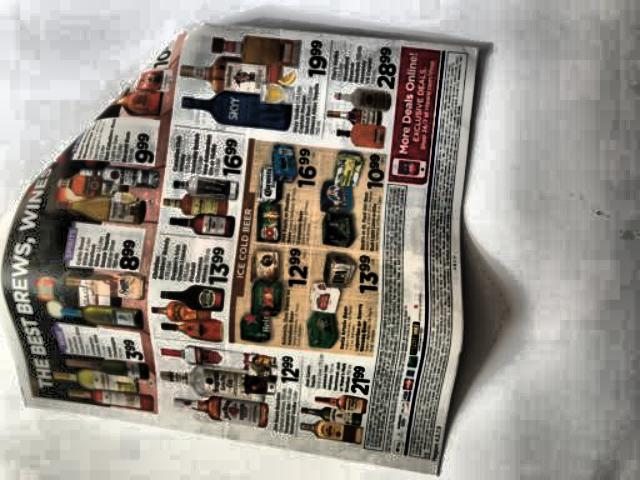Paper: (8, 18, 494, 469)
